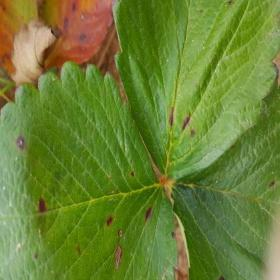Leaf Spot: (0, 60, 178, 279), (113, 0, 279, 179), (165, 78, 279, 279), (41, 0, 114, 72)
